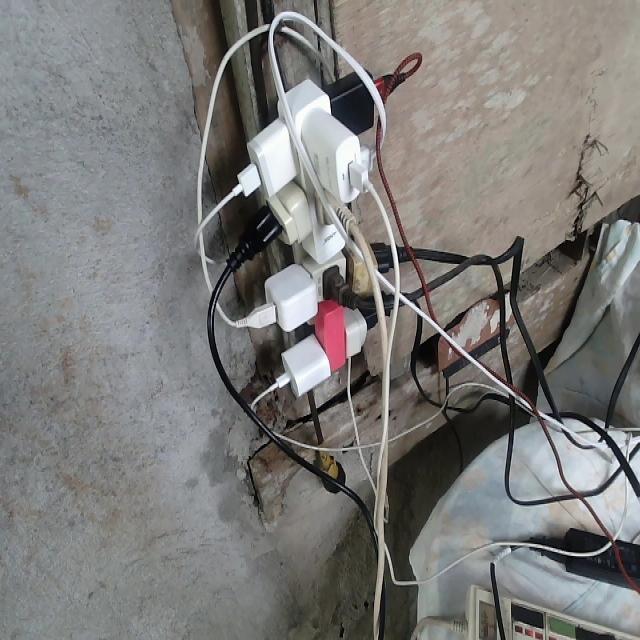-: (240, 69, 398, 392)
